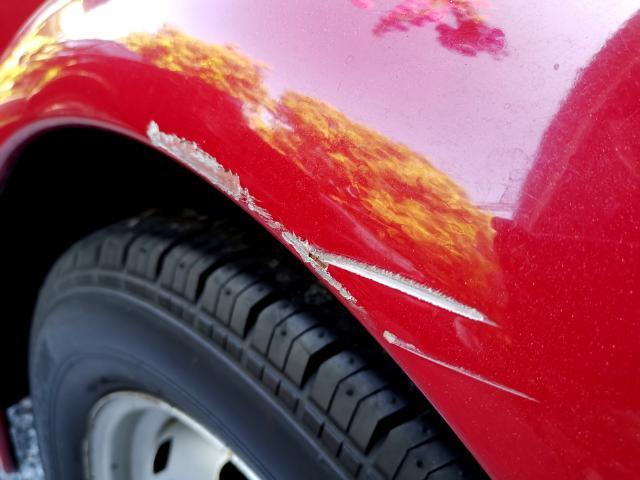scratch: (145, 115, 547, 404)
